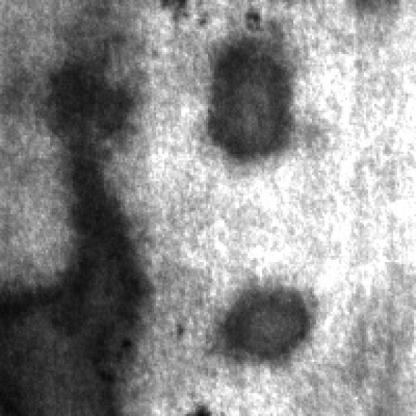patches: (2, 164, 144, 412), (210, 17, 298, 158), (42, 48, 144, 156), (218, 281, 318, 360)
